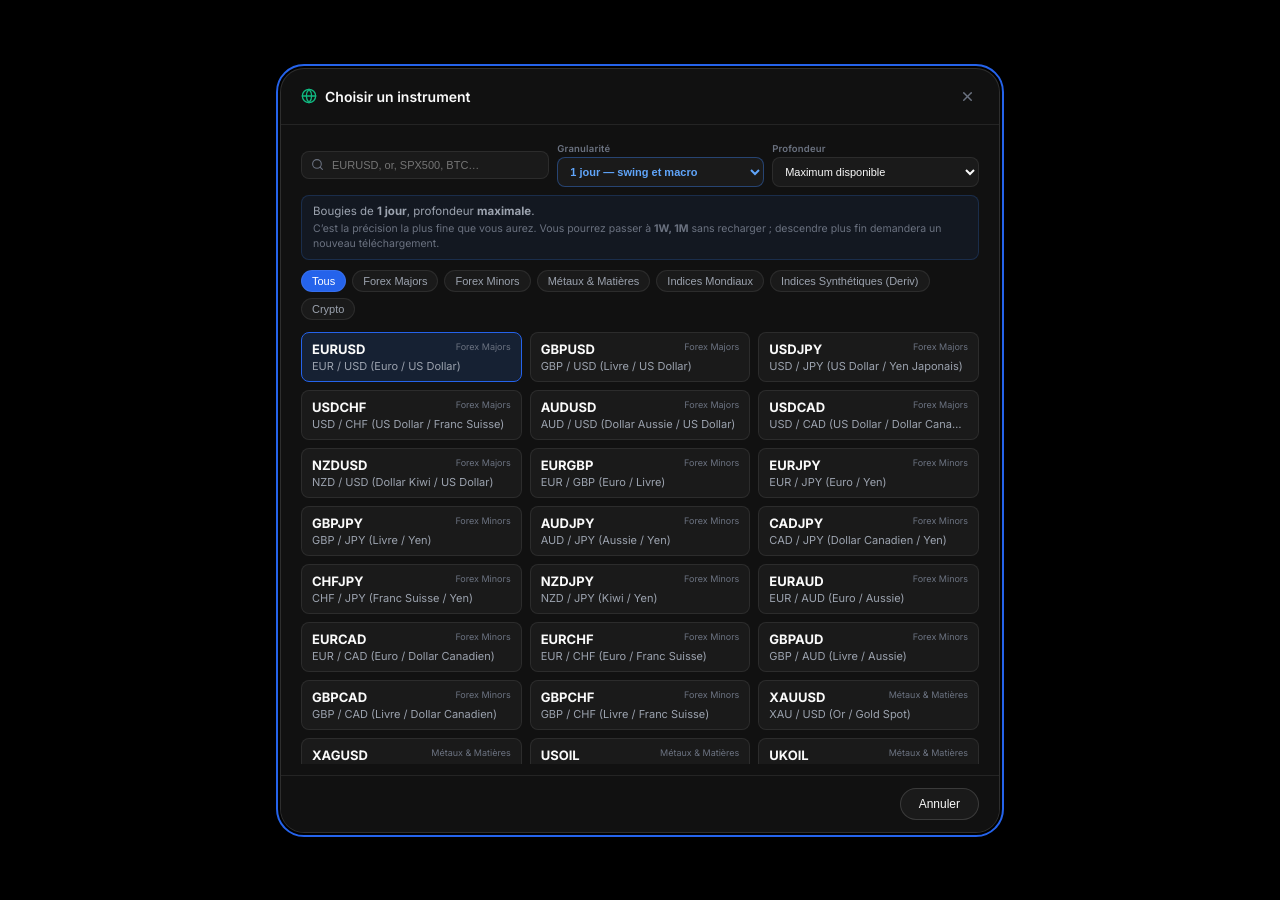
Scenario: <LiveModal> › never injects fake data when real provider fails for R_100, and displays honest error card
Select Deriv synthetics category
Click the button "Indices Synthétiques (Deriv)": (850, 281) [770, 270, 930, 292]
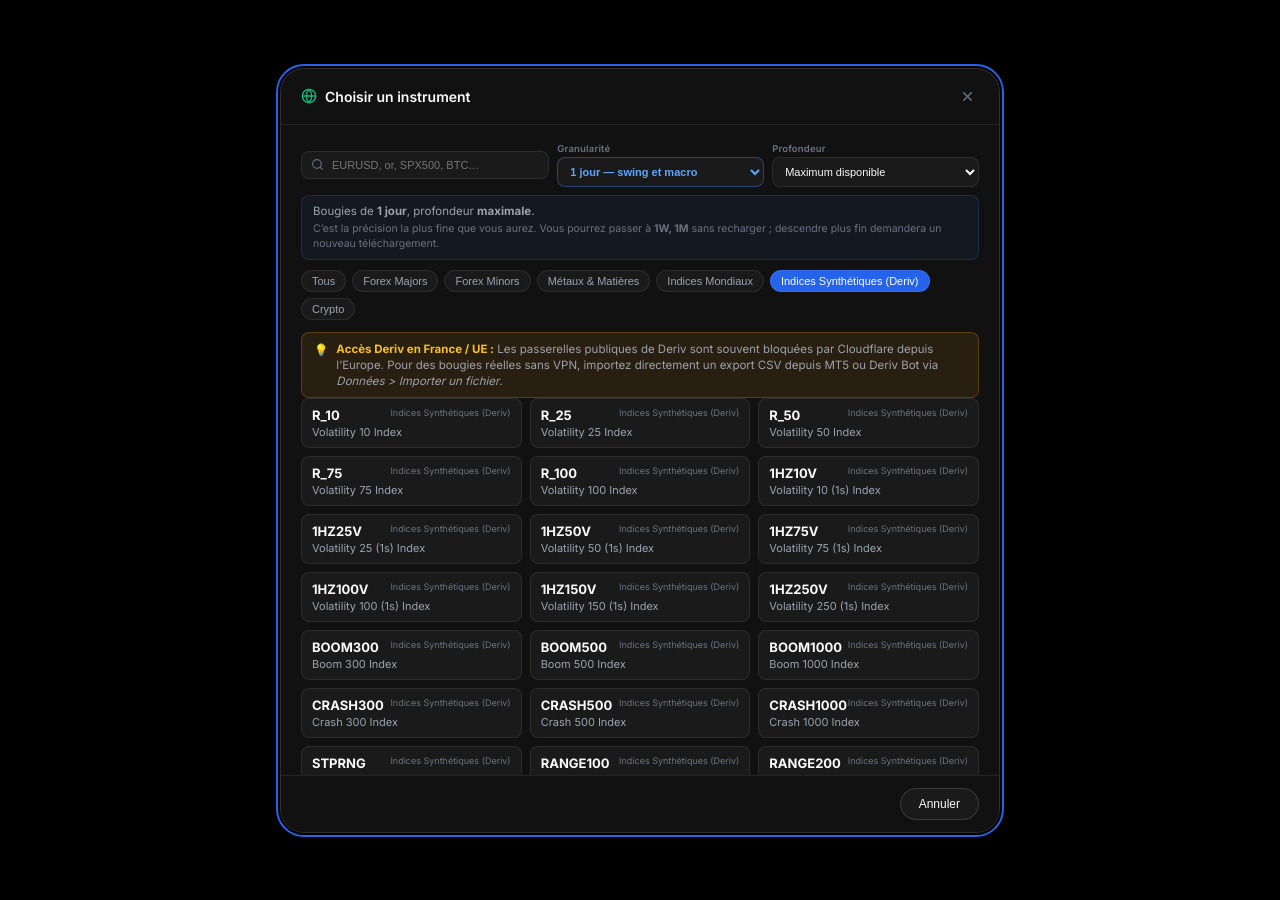
Click R_100
Click the button "R_100 Indices Synthétiques (Deriv) Volatility 100 Index": (640, 481) [530, 456, 750, 506]
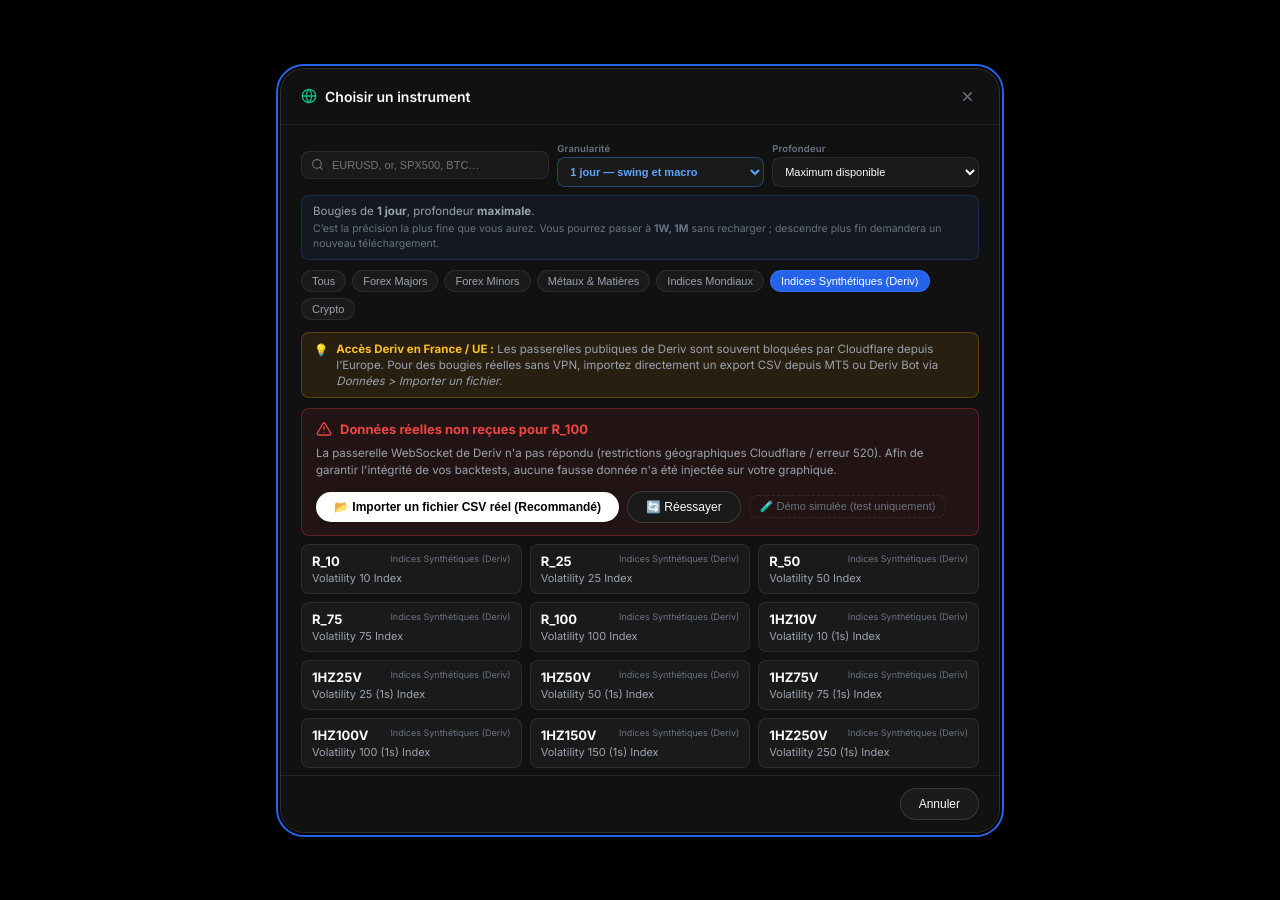
Result: the message is shown at [301, 408, 979, 536]
Result: the text "Données réelles non reçues pour R_100" is shown at [340, 421, 588, 437]
Result: the text "aucune fausse donnée n'a été injectée" is shown at [316, 446, 924, 477]
